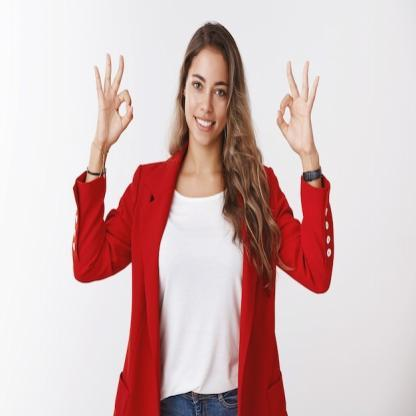ok: (274, 55, 322, 158), (90, 48, 136, 153)
